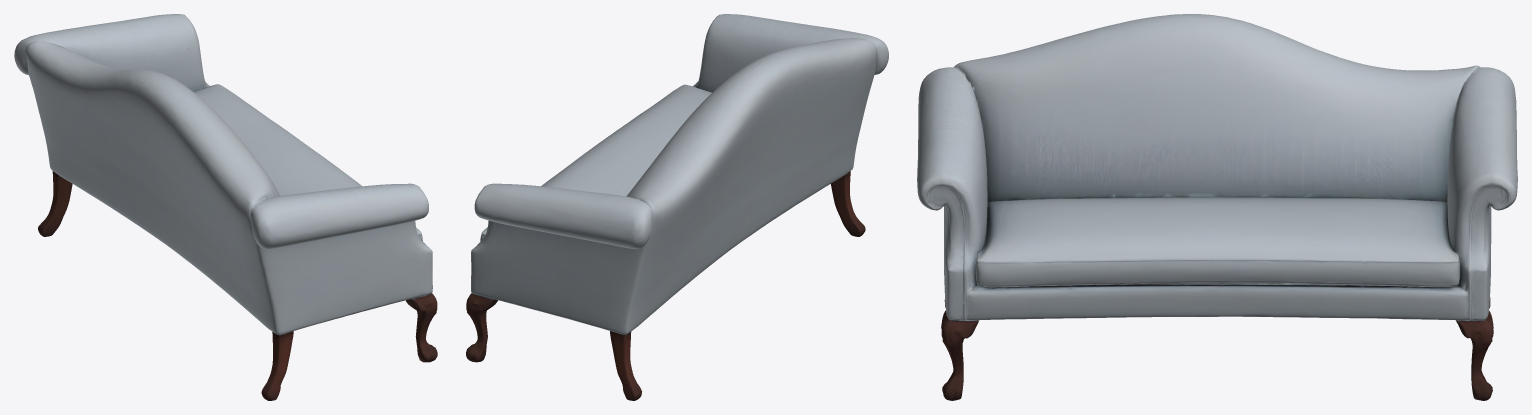
The model's file is camelback-sofa.glb.
3 renders of one model, left to right at view 1: azimuth 30°, elevation 25°; view 2: azimuth 150°, elevation 25°; view 3: azimuth 270°, elevation 25°, orthographic. The views are drawn at different scales.
Visible parts, largest first — view 1: tripo_node_dd3a8c02-1141-4973-b543-c1e15f24f267; view 2: tripo_node_dd3a8c02-1141-4973-b543-c1e15f24f267; view 3: tripo_node_dd3a8c02-1141-4973-b543-c1e15f24f267.
Part boxes in pixels (x1,y1,x2,y2): tripo_node_dd3a8c02-1141-4973-b543-c1e15f24f267: (14,14,437,400); tripo_node_dd3a8c02-1141-4973-b543-c1e15f24f267: (466,14,888,400); tripo_node_dd3a8c02-1141-4973-b543-c1e15f24f267: (917,14,1517,400).
Bounding box in the file's own units: 0.7686 × 0.95 × 1.8.
1 material, 1 textured.
